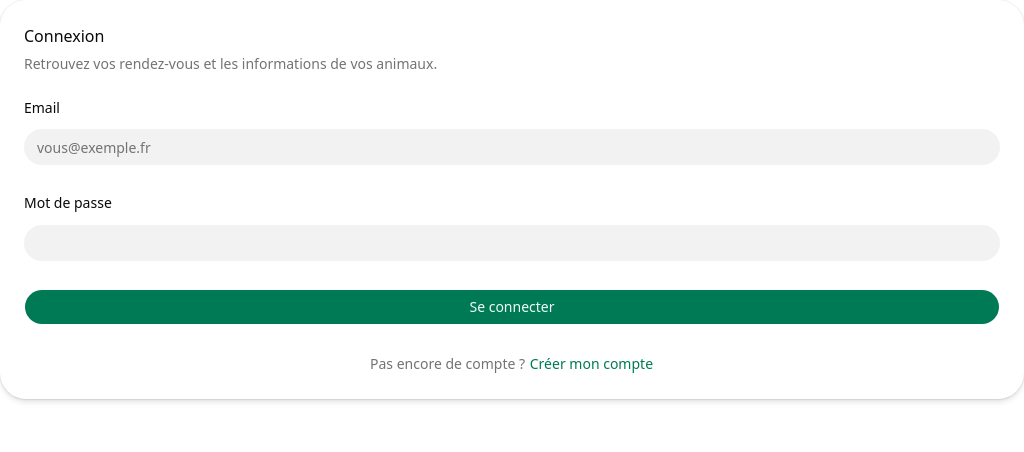
Test case: LoginForm — validation locale › refuse un mot de passe vide sans appeler le serveur
Type "marie@example.test" into the field labelled "Email" at (512,147), box [24, 129, 1000, 165]
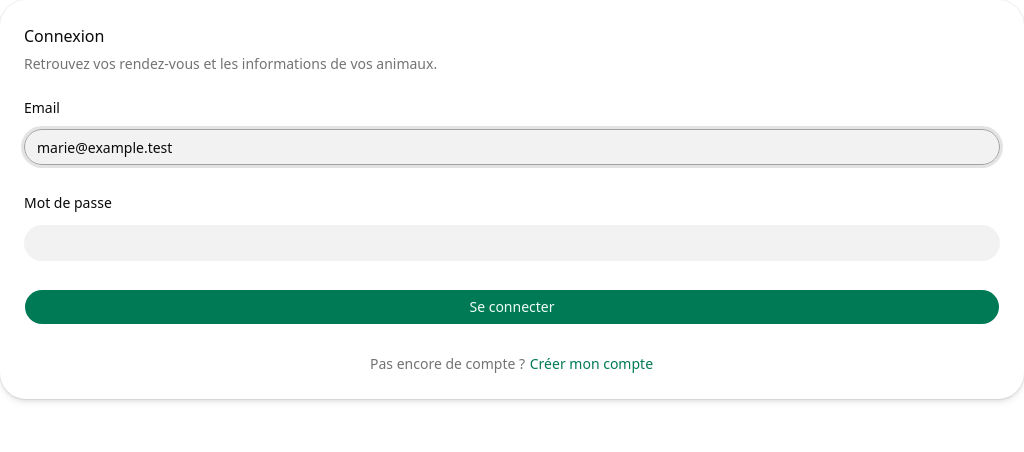
Click the button "Se connecter" at (512,306), box [24, 288, 1000, 324]
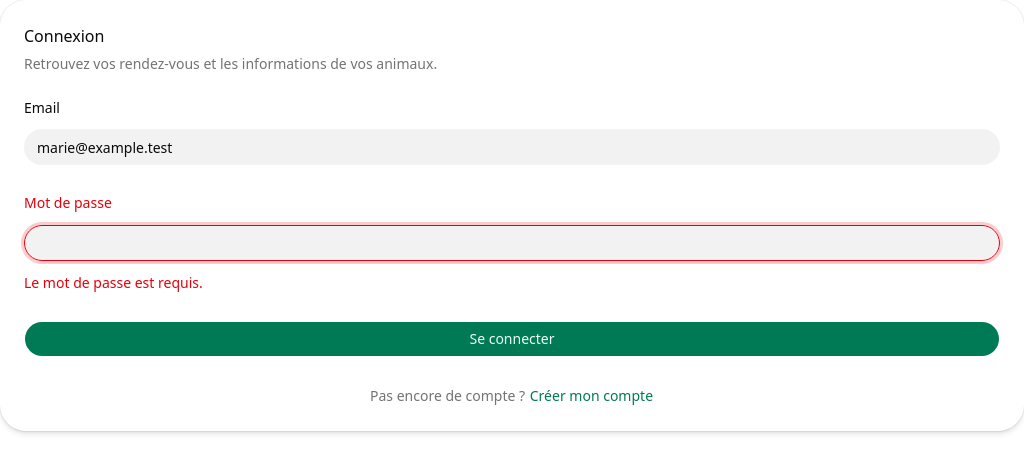
Now the text "Le mot de passe est requis." is shown, box [24, 272, 203, 292]
